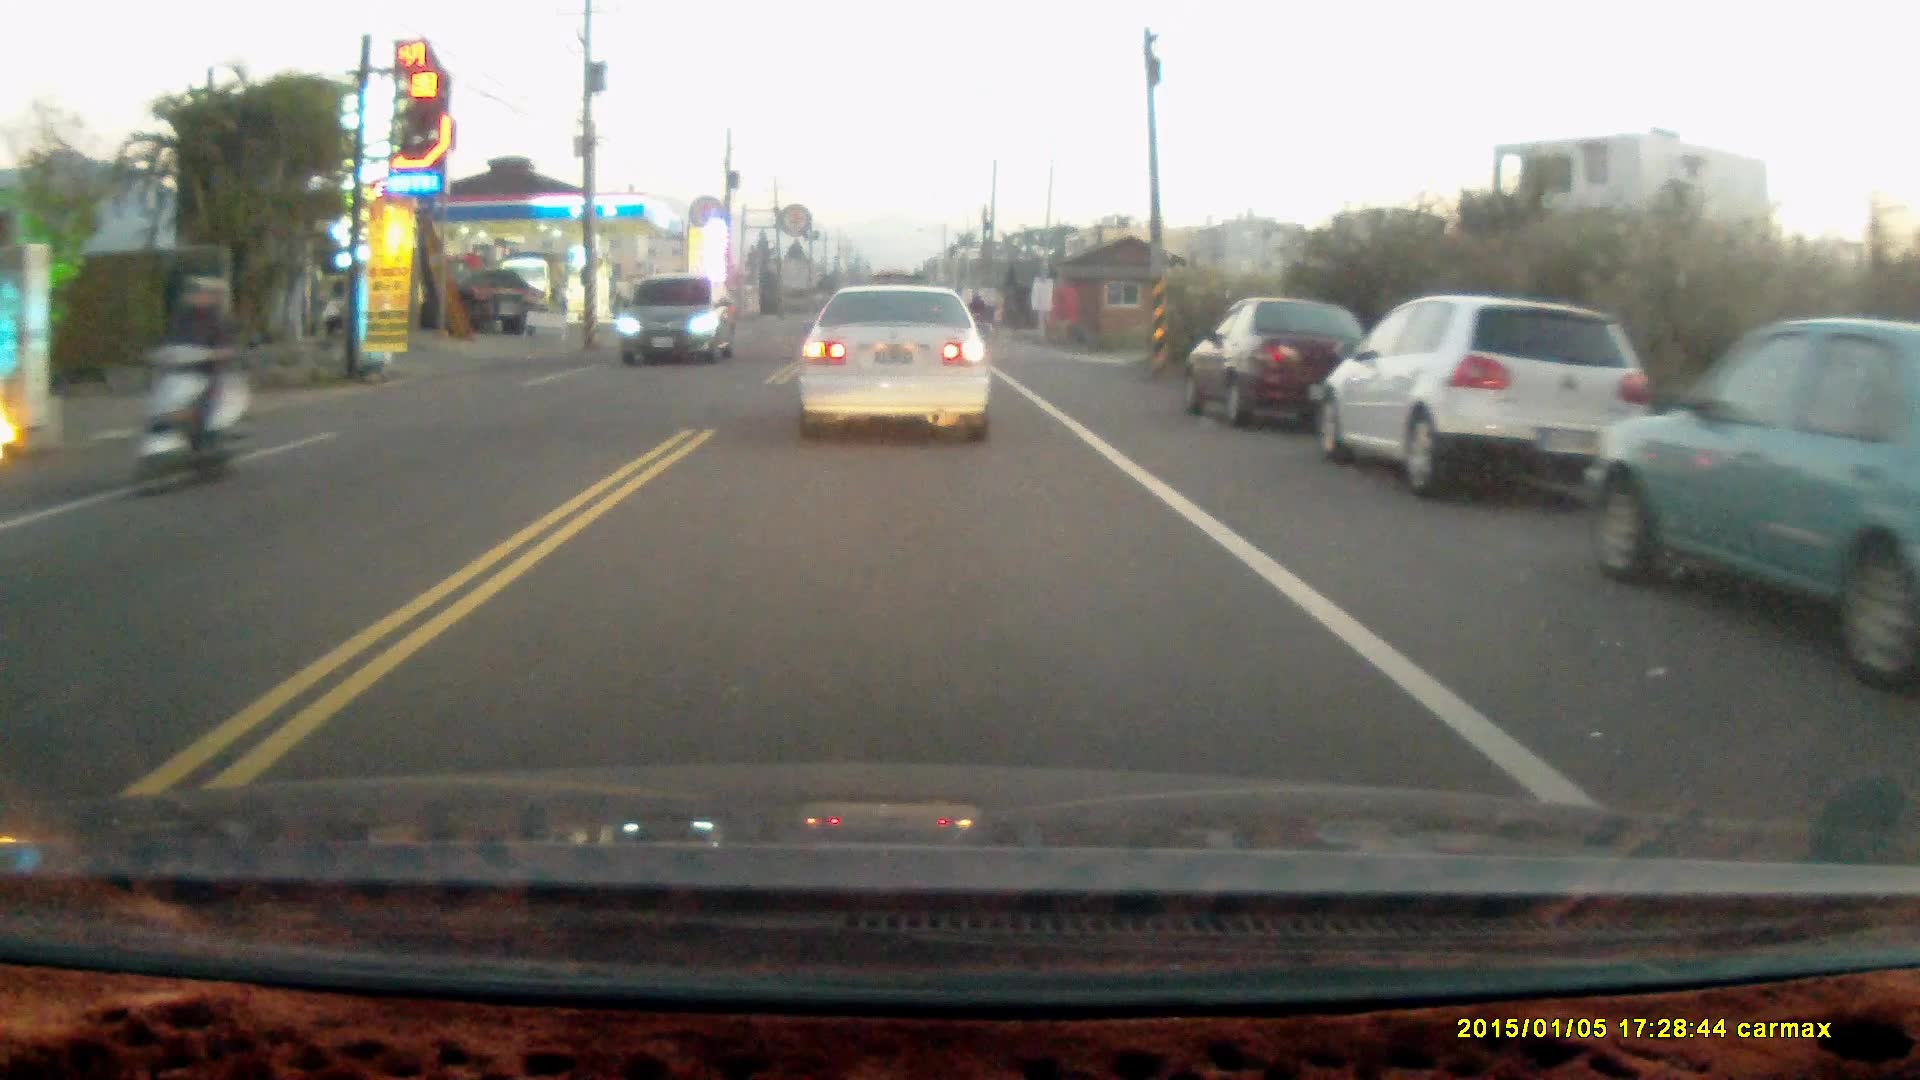rider: (125, 272, 253, 499)
vehicle: (1582, 317, 1920, 681), (1321, 293, 1652, 500), (797, 287, 995, 453), (1186, 297, 1383, 431), (616, 276, 738, 366)
